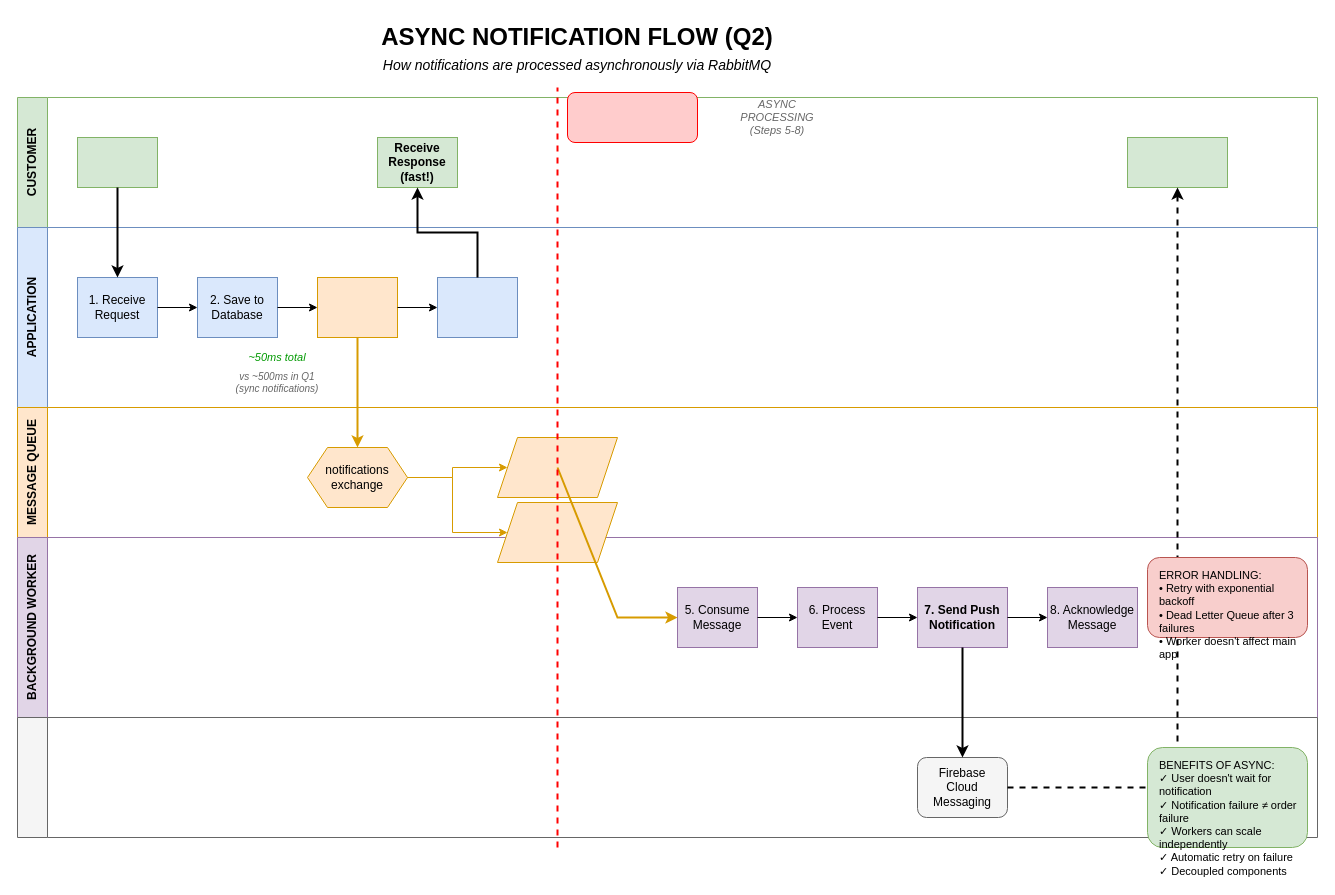
Some shapes in this 1335 by 895 pixel diagram are drawn without their labels. Here are the shapes that lost their labels. From the top down, the box of each, then its label:
(566, 92, 698, 142): USER RESPONSE RETURNED HERE (Steps 1-4: ~50ms)
(76, 136, 158, 188): Place Order
(1126, 136, 1228, 188): Receive Push Notification (async)
(316, 276, 398, 338): 3. Publish Event to Queue
(436, 276, 518, 338): 4. Return Response
(496, 436, 618, 498): customer_ notifications queue
(496, 502, 618, 562): restaurant_ notifications queue
(16, 716, 1318, 838): EXTERNAL
